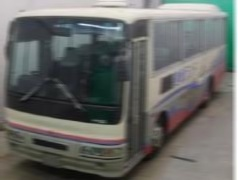bus: (4, 4, 225, 174)
